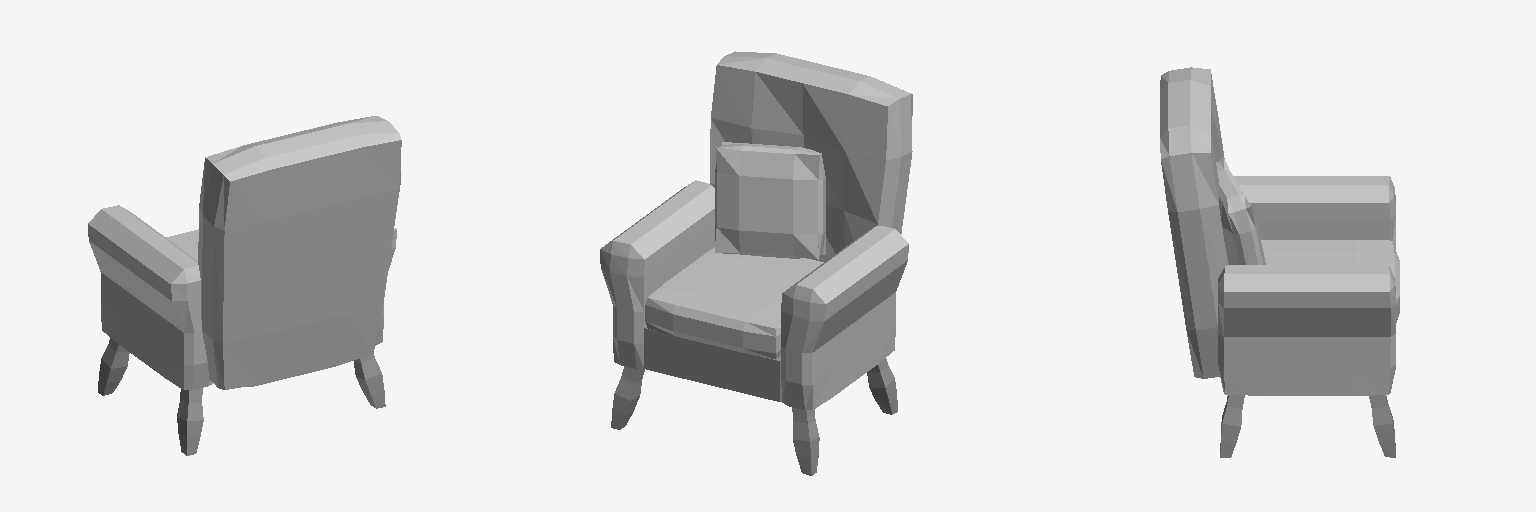
Rendered from simple_armchair.obj.
3 views of the same model, side by side, from view 1: azimuth 30°, elevation 25°; view 2: azimuth 150°, elevation 25°; view 3: azimuth 270°, elevation 25° (orthographic).
Visible parts, largest first — view 1: Cube.005_Cube.006; view 2: Cube.005_Cube.006; view 3: Cube.005_Cube.006.
Part boxes in pixels (x1,y1,x2,y2): Cube.005_Cube.006: (88,116,401,455); Cube.005_Cube.006: (600,51,912,475); Cube.005_Cube.006: (1160,67,1399,457).
Bounding box in the file's own units: 2.18 × 2.84 × 2.01.